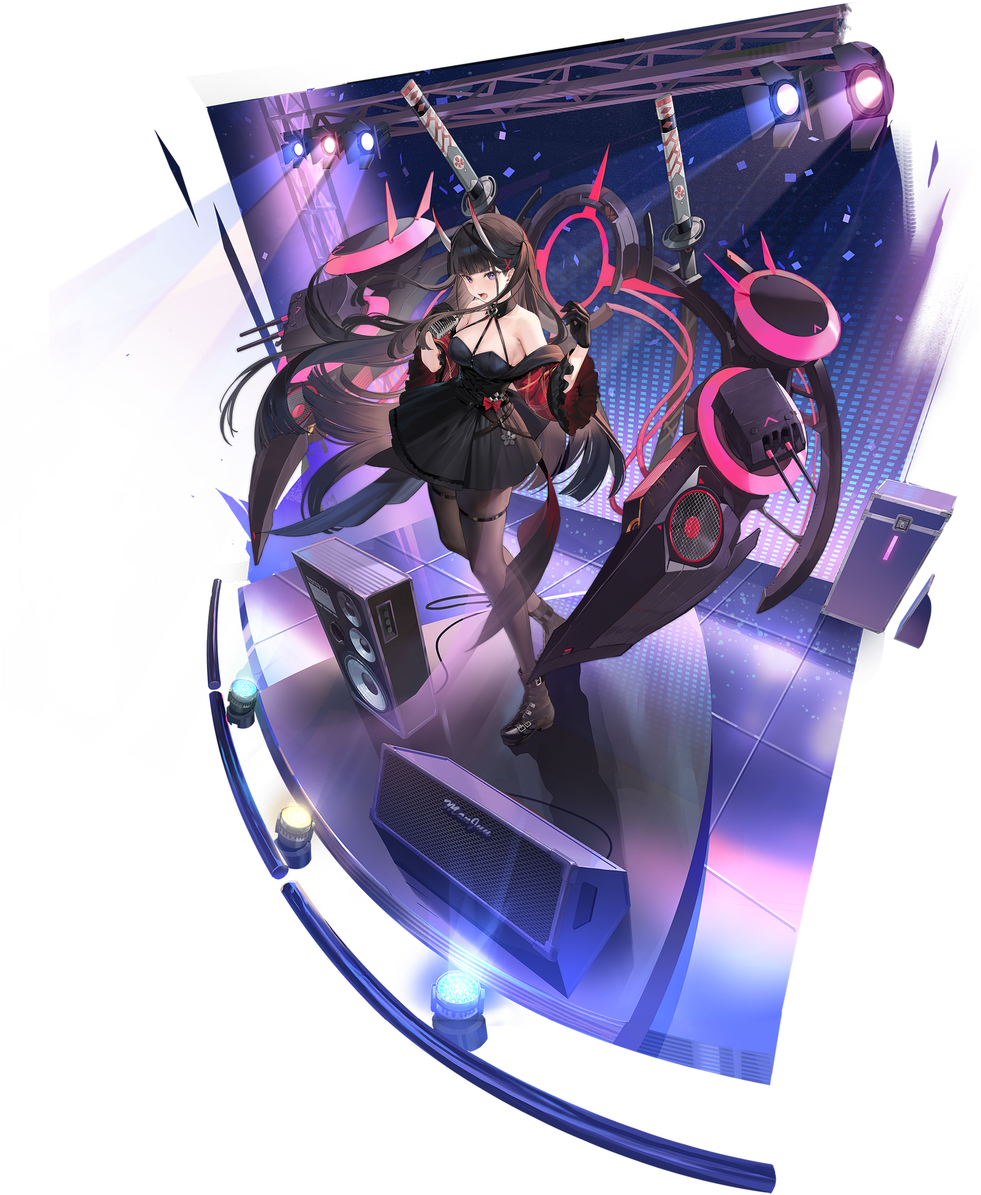person: (240, 131, 699, 810)
